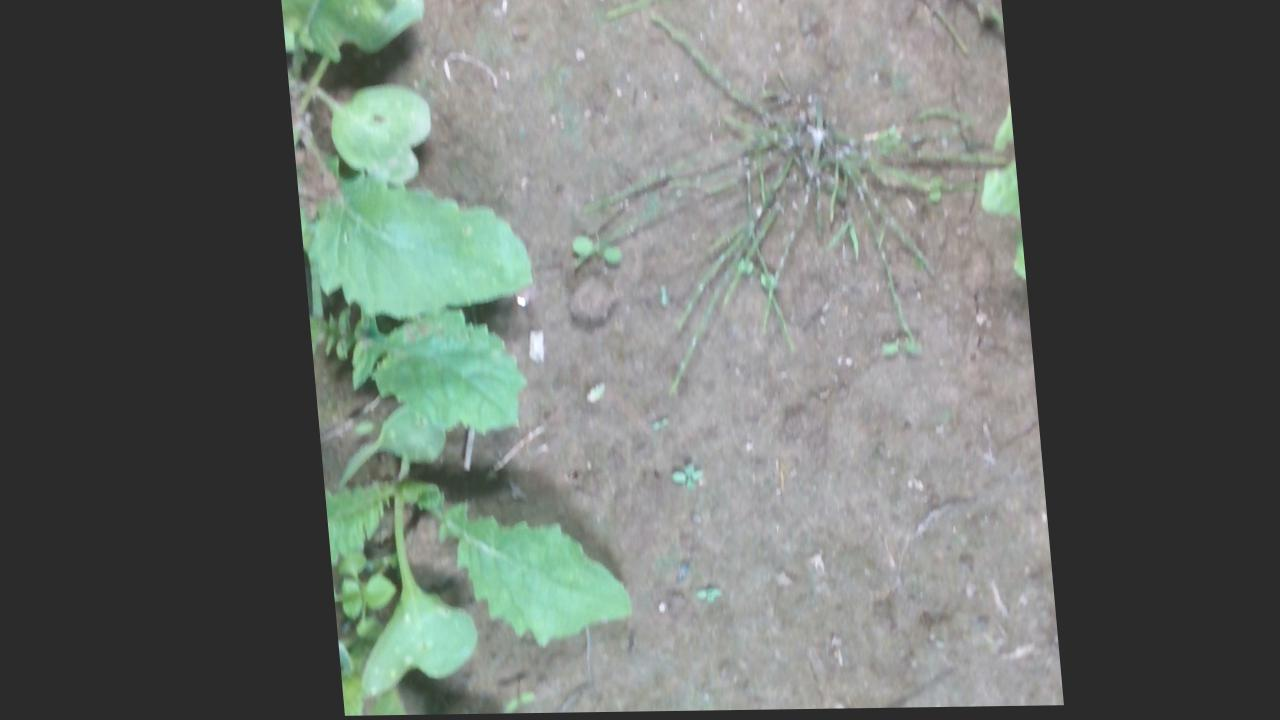weed: (659, 462, 700, 491), (681, 585, 718, 605), (640, 417, 664, 433)
